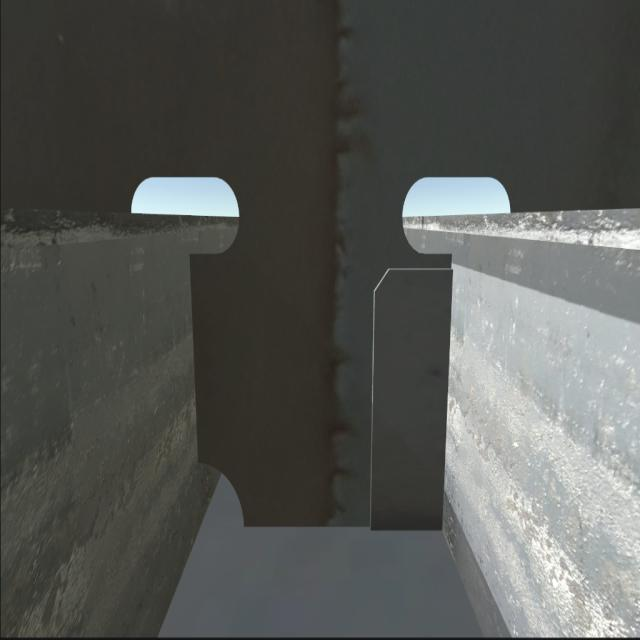fillet_hole: (204, 464, 244, 527)
fillet_yong_jeop_jang: (236, 517, 453, 539)
longi_yong_jeop_jang: (186, 249, 206, 466), (440, 263, 449, 532)
plate_CP03: (372, 268, 445, 527)
